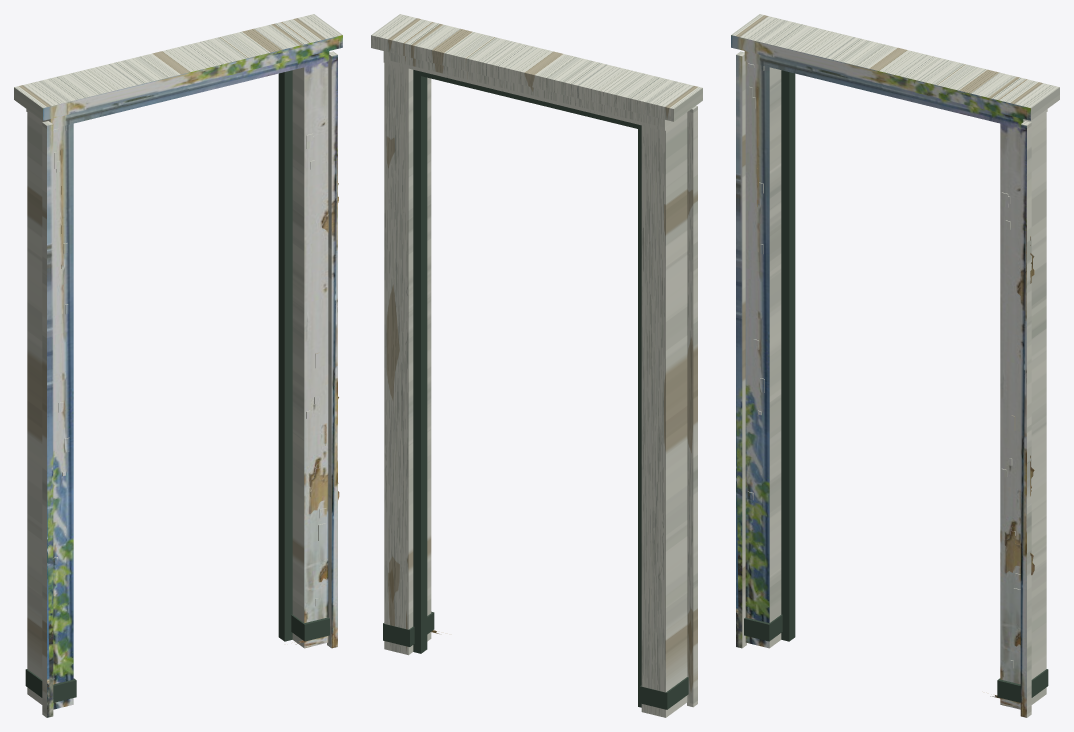
Rendered from DoorFrame.glb.
3 views of the same model, side by side, from view 1: azimuth 30°, elevation 25°; view 2: azimuth 150°, elevation 25°; view 3: azimuth 330°, elevation 25° (orthographic).
Parts seen in each view (by area): view 1: Geometry_283D72A6_003, Geometry_49F1B541_003, Geometry_5CED9BA5_003, Geometry_5FC5CEBB_003; view 2: Geometry_49F1B541_003, Geometry_5CED9BA5_003, Geometry_5FC5CEBB_003; view 3: Geometry_283D72A6_003, Geometry_49F1B541_003, Geometry_5CED9BA5_003, Geometry_5FC5CEBB_003.
Part boxes in pixels (box(x1,y1,x2,y2)): Geometry_283D72A6_003: box(43, 35, 342, 717); Geometry_49F1B541_003: box(26, 67, 304, 704); Geometry_5CED9BA5_003: box(14, 14, 342, 717); Geometry_5FC5CEBB_003: box(25, 70, 329, 702); Geometry_49F1B541_003: box(383, 51, 687, 717); Geometry_5CED9BA5_003: box(371, 14, 702, 707); Geometry_5FC5CEBB_003: box(383, 70, 688, 709); Geometry_283D72A6_003: box(731, 35, 1034, 717); Geometry_49F1B541_003: box(769, 67, 1047, 704); Geometry_5CED9BA5_003: box(731, 14, 1059, 717); Geometry_5FC5CEBB_003: box(744, 70, 1048, 702).
Bounding box in the file's own units: 1.15 × 2.24 × 0.1915.
6 materials, 4 textured.
